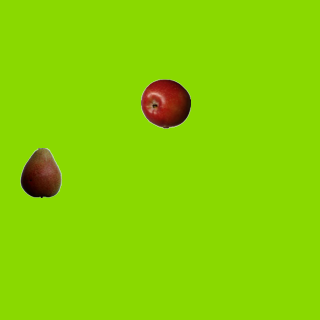Apple Braeburn: (140, 78, 190, 128)
Pear Forelle: (15, 147, 65, 197)
